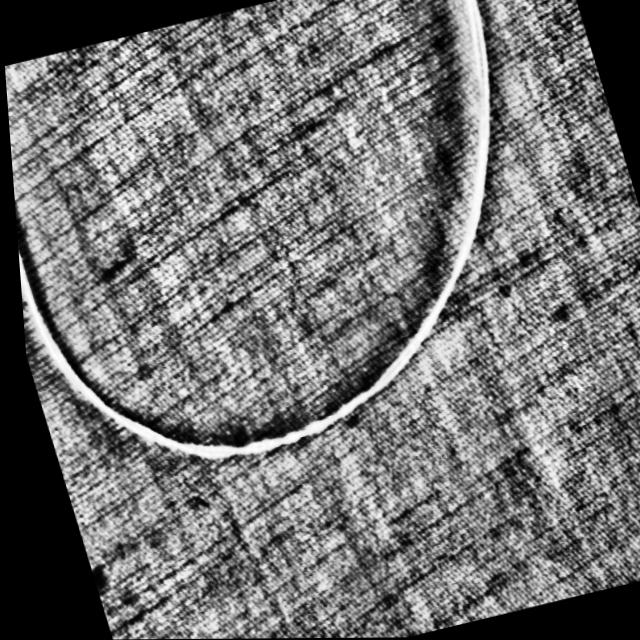Stitch: (0, 0, 598, 503)
